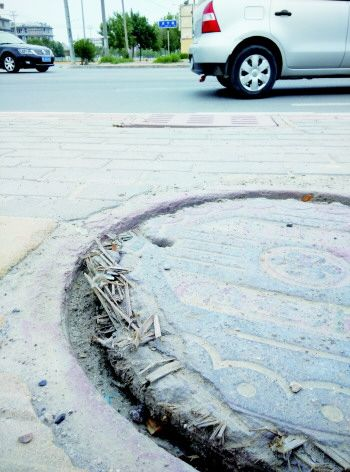circle: (20, 174, 344, 463)
